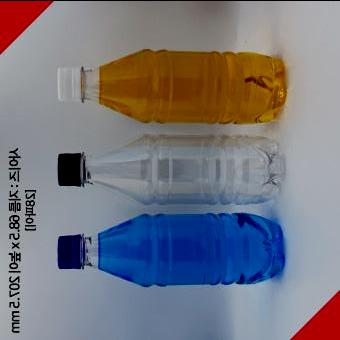bottle: (56, 47, 286, 124), (58, 214, 285, 284), (58, 135, 284, 204)
